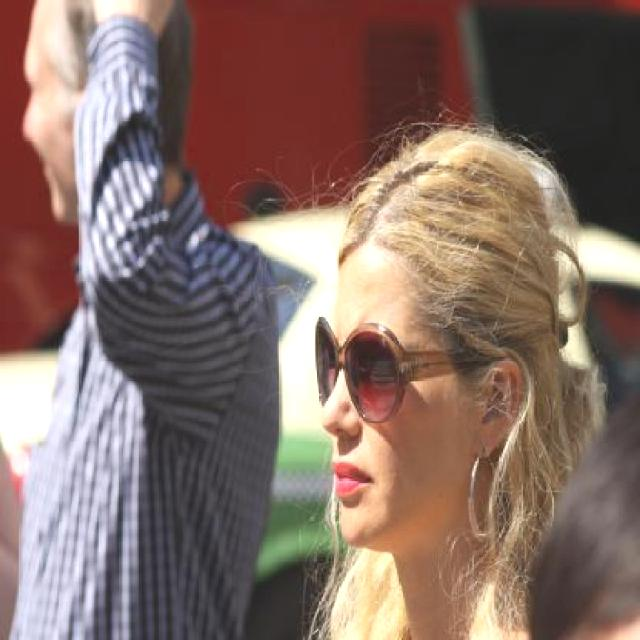face_nomask: (307, 319, 422, 530), (16, 38, 75, 210)
glasses: (314, 320, 500, 432)
head_nohelmet: (323, 158, 560, 294)
person: (6, 7, 269, 640), (298, 135, 582, 640)
